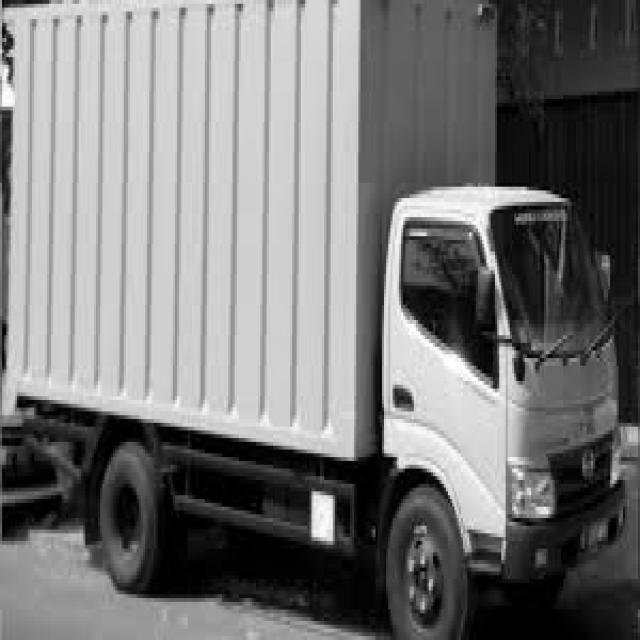truck: (366, 146, 640, 640)
